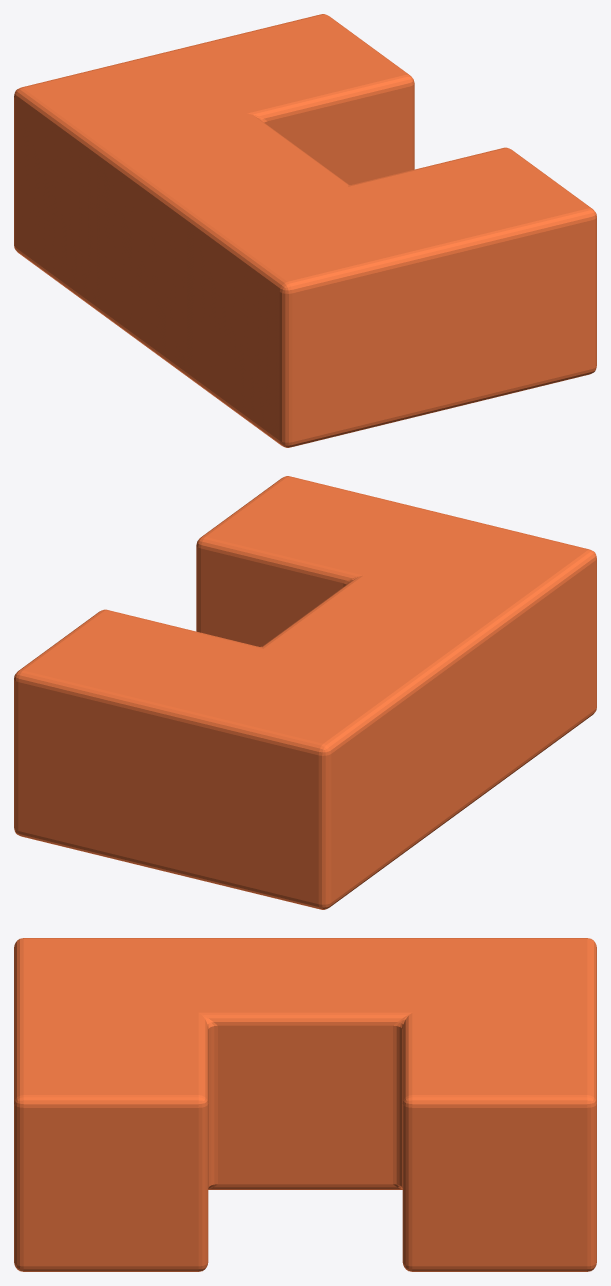
3 renders of one model, top to bottom at view 1: azimuth 30°, elevation 25°; view 2: azimuth 150°, elevation 25°; view 3: azimuth 270°, elevation 25°, orthographic. The views are drawn at different scales.
Parts seen in each view (by area): view 1: U; view 2: U; view 3: U.
Boxes of the visible parts, x1,y1,x2,y2 form: U: (14,14,596,447); U: (14,476,596,909); U: (14,938,596,1271).
Bounding box in the file's own units: 2 × 1 × 3.
Materials: 1 (1 with a texture image).
